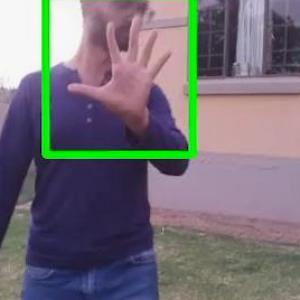follow_hand: (67, 12, 176, 128)
